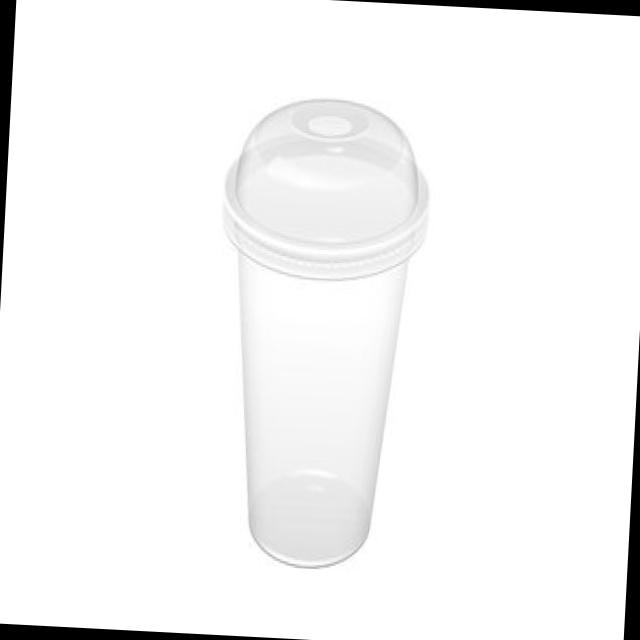GelasPlastik: (202, 90, 436, 574)
